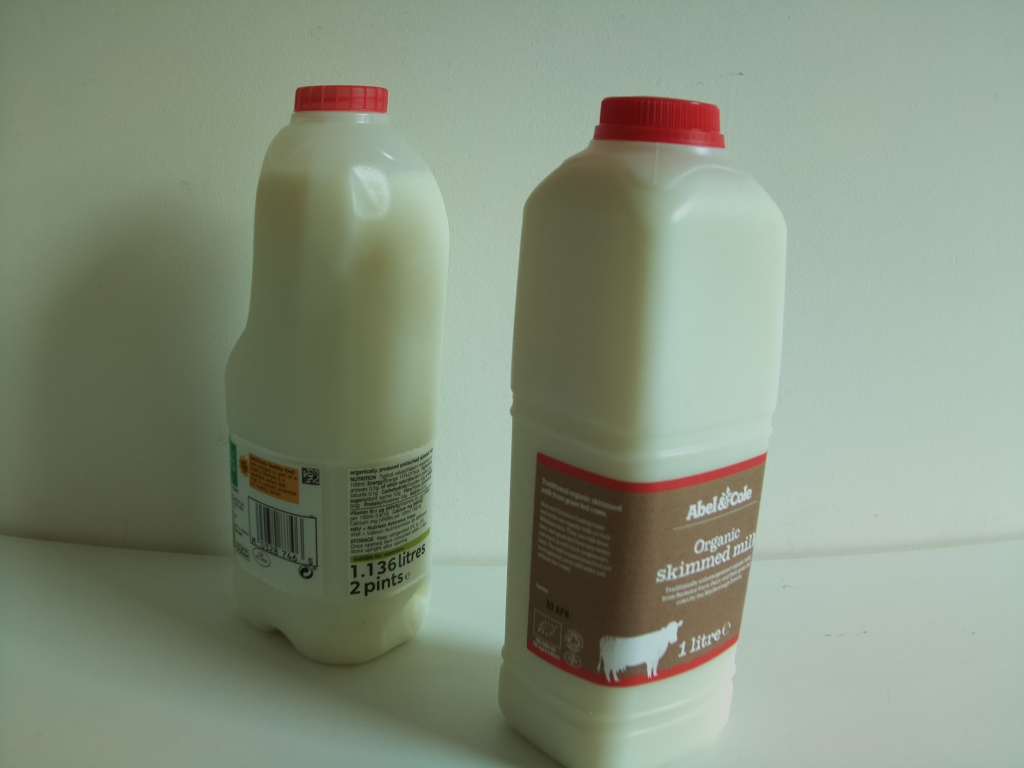milk: (503, 94, 789, 768), (224, 84, 466, 673)
